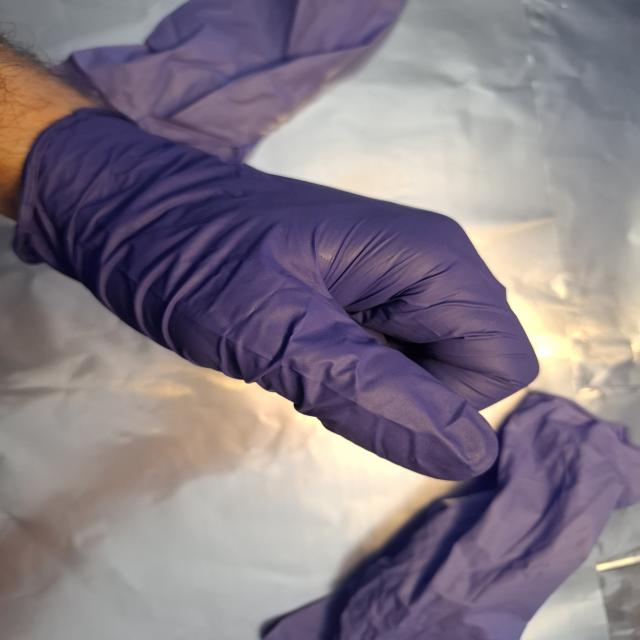glove_on: (15, 100, 547, 488)
